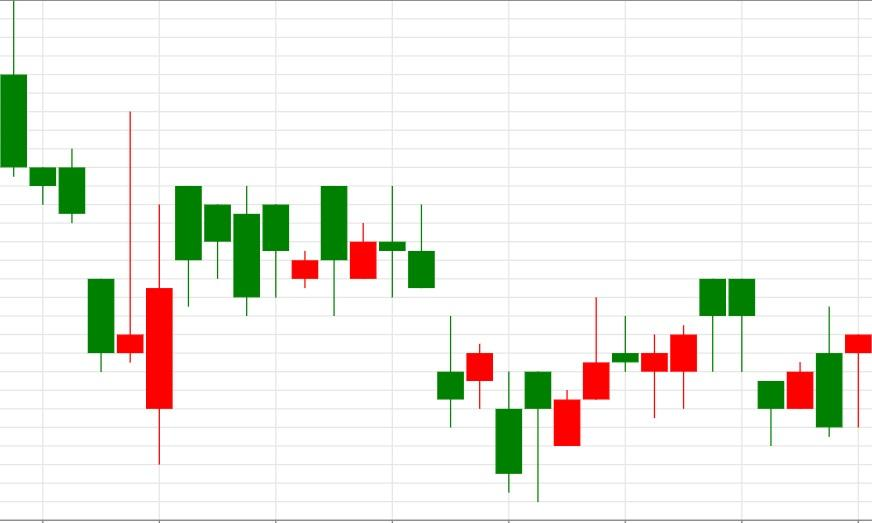inverse_hammer_rise: (0, 0, 145, 373)
